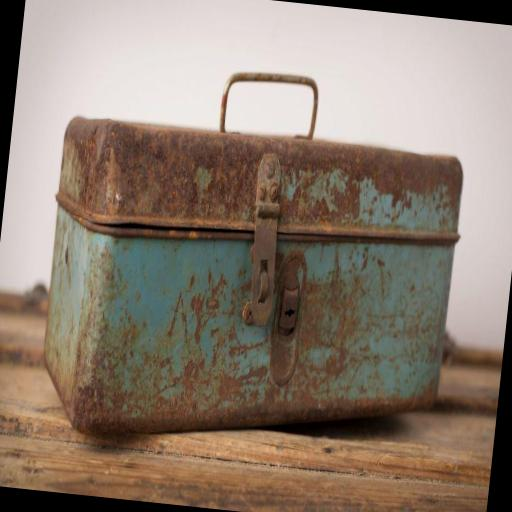segmentation: (34, 218, 457, 471), (56, 56, 471, 258)
